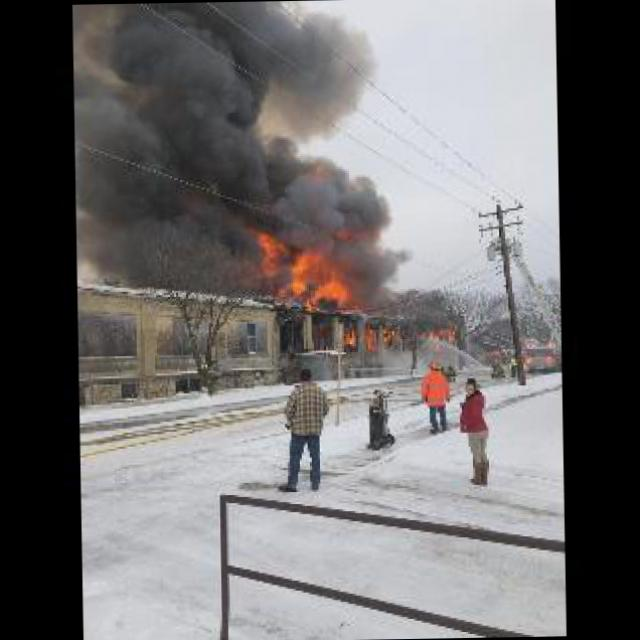fire: (263, 230, 357, 308), (343, 328, 358, 343), (382, 329, 396, 343), (430, 328, 446, 338)
smoke: (70, 0, 414, 284)
